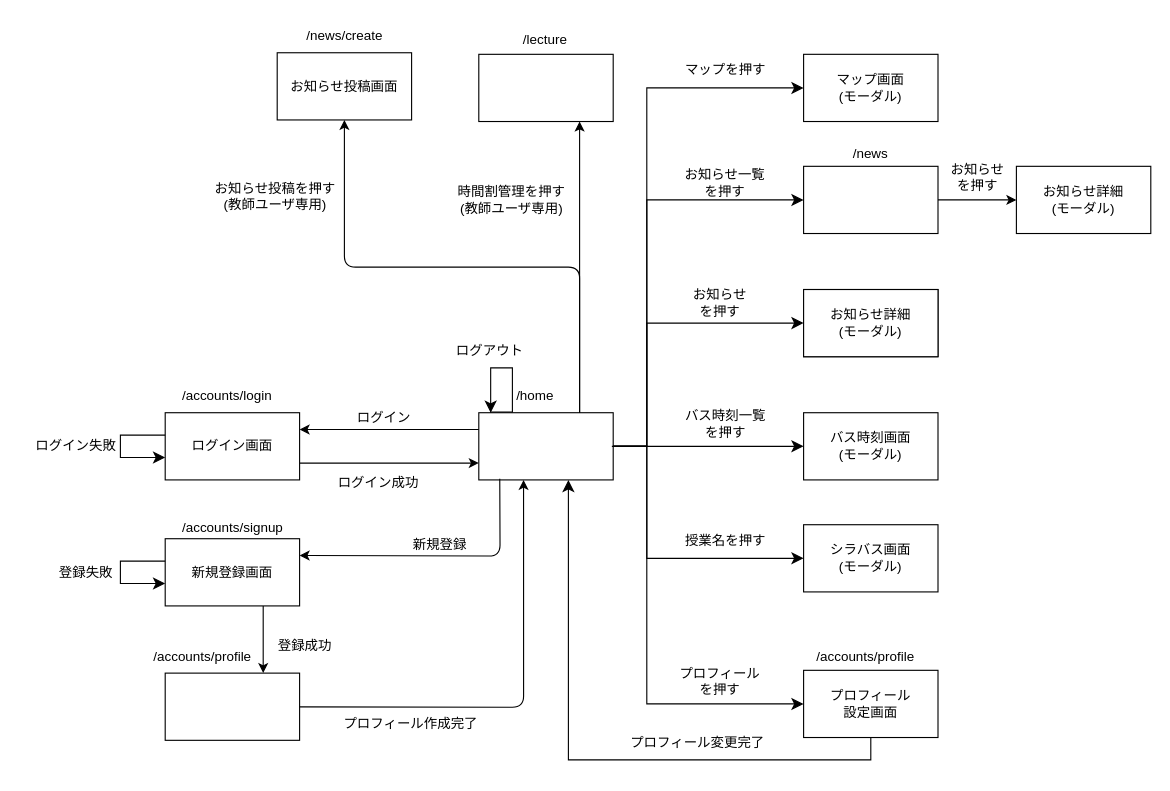
The diagram is 1170 pixels wide and 791 high, and some of its shapes have lost their labels. Here are the shapes that lost their labels. From the top down, the box of each, then its label:
(478, 53, 613, 122): 講義設定画面
(802, 165, 938, 234): お知らせ一覧
(478, 412, 613, 480): ホーム画面
(164, 672, 300, 740): プロフィール 登録画面
